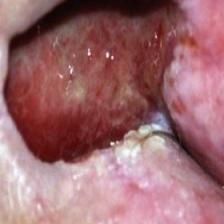pressure-wound: (0, 0, 208, 212)
